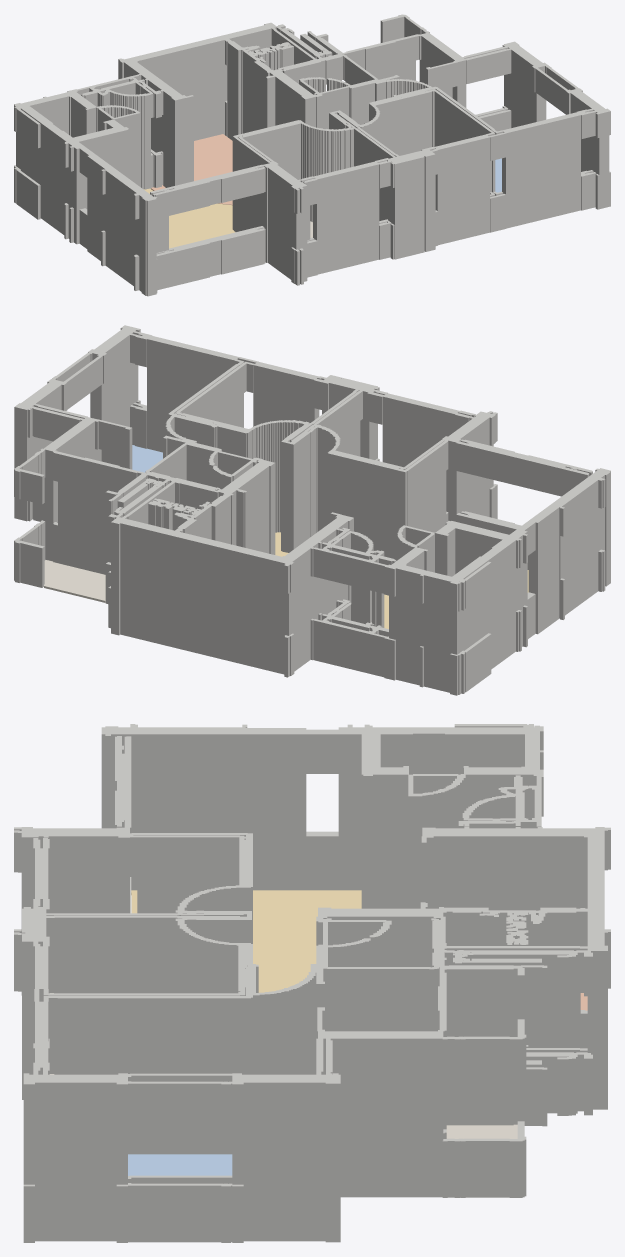
3 renders of one model, top to bottom at view 1: azimuth 30°, elevation 25°; view 2: azimuth 150°, elevation 25°; view 3: azimuth 270°, elevation 25°, orthographic. The views are drawn at different scales.
Visible parts, largest first — view 1: walls, room:living:3, room:kitchen:0; view 2: walls, room:other:8, room:bedroom:4; view 3: walls, room:living:3, room:bedroom:4, room:other:8.
Part boxes in pixels (x1,y1,x2,y2): walls: (14,14,610,296); room:living:3: (144,188,235,248); room:kitchen:0: (151,134,232,205); walls: (14,325,610,695); room:other:8: (44,560,105,602); room:bedroom:4: (132,445,162,472); walls: (14,724,610,1242); room:living:3: (131,890,361,992); room:bedroom:4: (128,1154,232,1175); room:other:8: (446,1124,517,1138).
Size of the model in its own units: 13.63 by 2.8 by 9.55.
